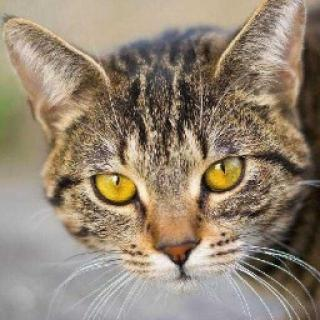cat: (1, 13, 308, 294)
nose: (146, 210, 201, 273)
